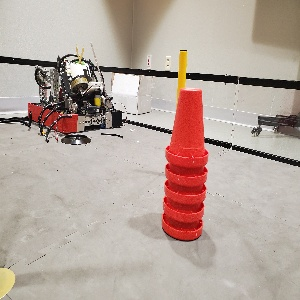Red_5: (160, 86, 206, 239)
